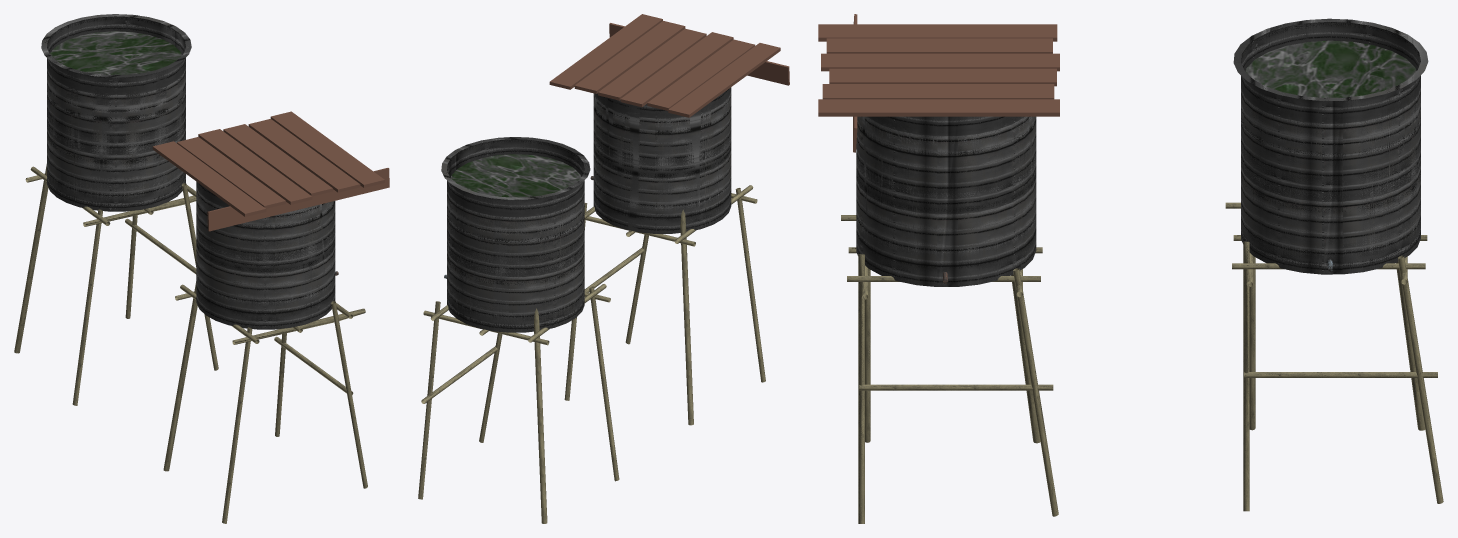
Rendered from Tank.fbx.
3 views of the same model, side by side, from view 1: azimuth 30°, elevation 25°; view 2: azimuth 150°, elevation 25°; view 3: azimuth 270°, elevation 25° (orthographic). The views are drawn at different scales.
Visible parts, largest first — view 1: Group2, Group1; view 2: Group2, Group1; view 3: Group2, Group1.
Boxes of the visible parts, <box> form: Group2: <box>152,111,389,523</box>; Group1: <box>14,14,218,405</box>; Group2: <box>549,14,789,425</box>; Group1: <box>418,137,619,523</box>; Group2: <box>818,14,1059,523</box>; Group1: <box>1225,18,1443,511</box>.
Size of the model in its own units: 116 by 203 by 269.
